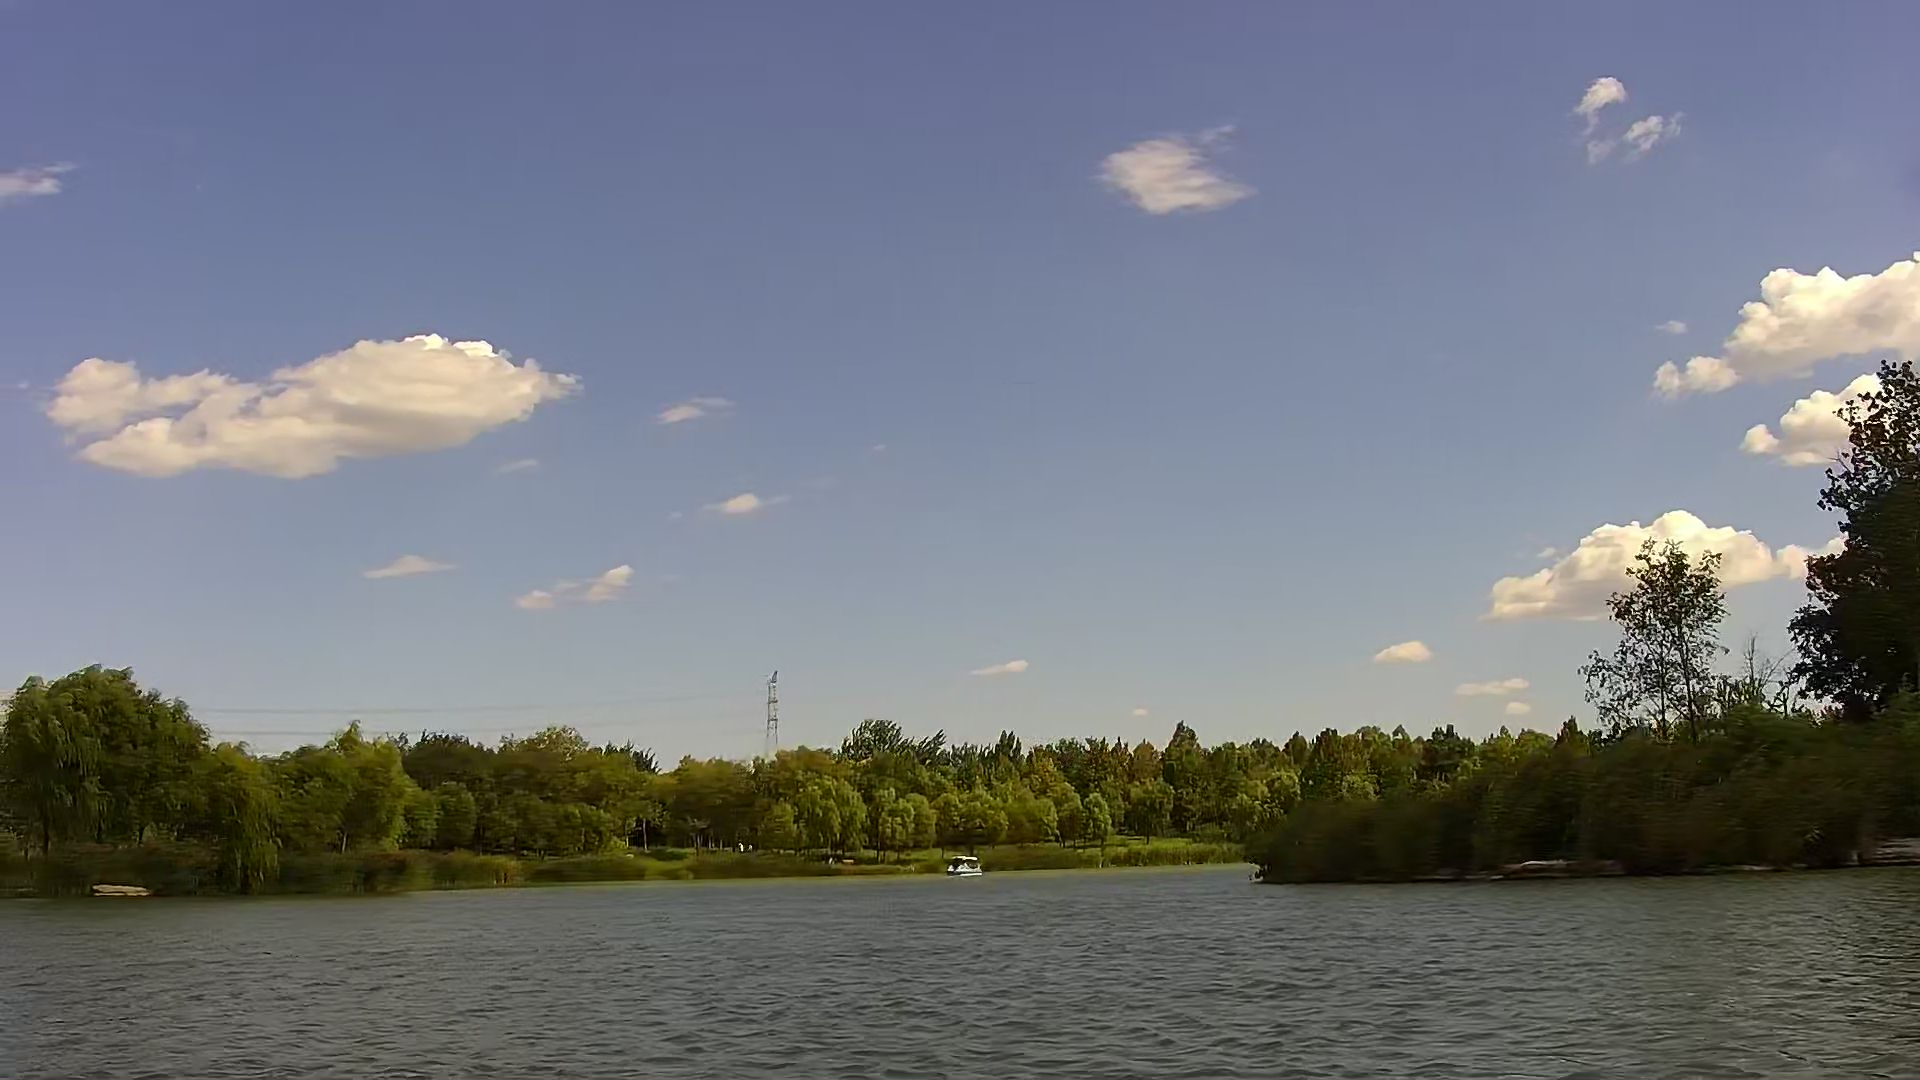boat: (947, 851, 978, 880)
rock: (1511, 858, 1594, 880), (1862, 835, 1917, 862), (88, 881, 142, 899), (1731, 860, 1758, 873)
